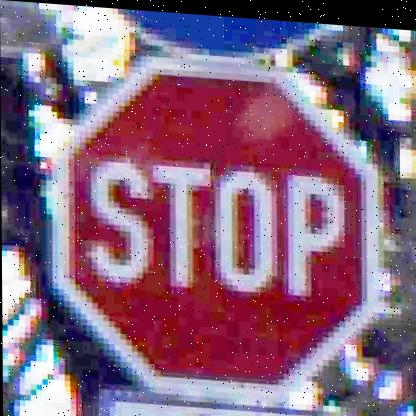Stop Sign: (48, 36, 381, 407)
